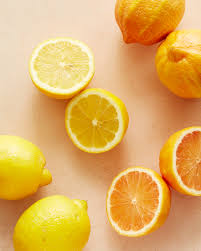Lemon: (11, 180, 100, 251), (109, 1, 189, 55), (1, 124, 52, 201), (158, 27, 201, 96)
